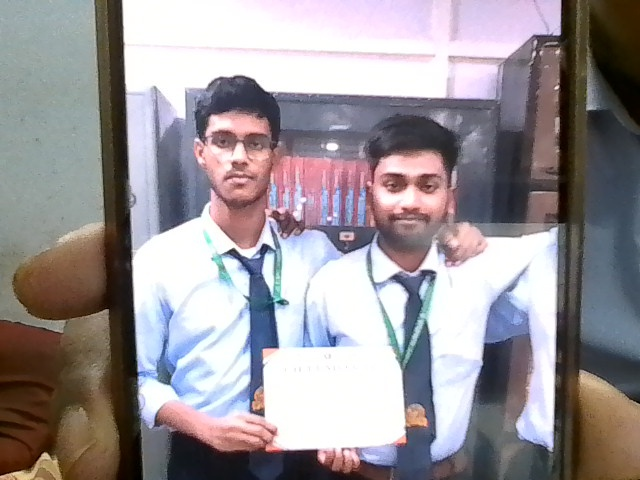real: (359, 106, 468, 260)
